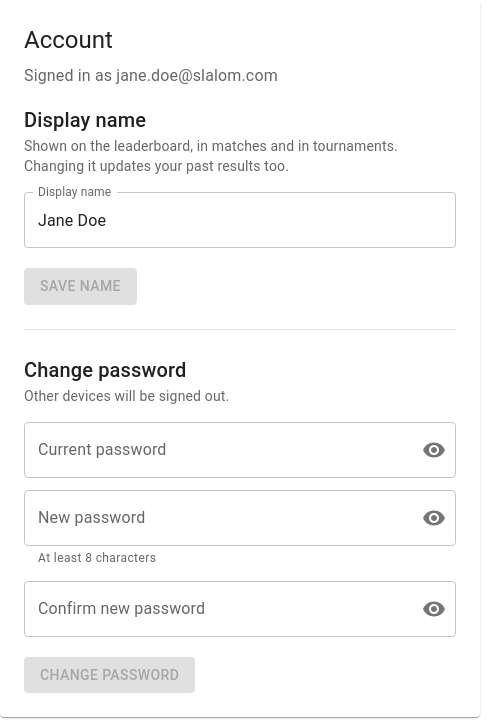
Test: AccountPage display name › starts from the current name and only enables Save for a valid, changed name
Expected: the button "Save name" is disabled, [24,268,137,305]
Replace the text in the field labelled "Display name" with "J": x=240, y=220 [24,192,456,248]
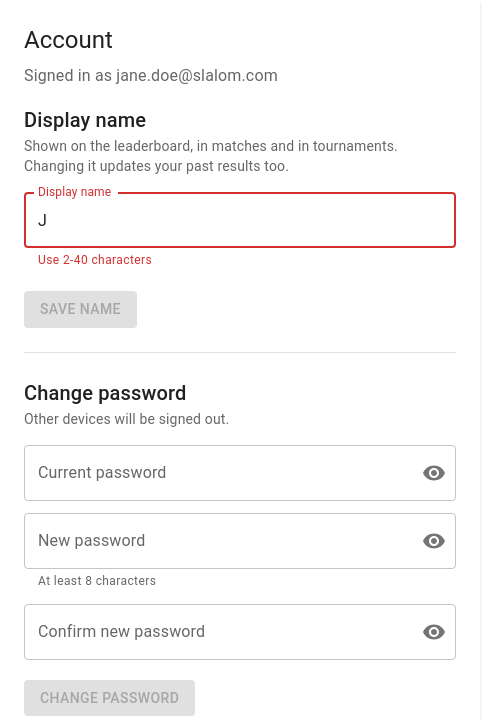
Expected: the button "Save name" is disabled, [24,291,137,328]
Expected: the text "Use 2-40 characters" is shown, [38,253,152,267]
In the field labelled "Display name": x=240, y=220 [24,192,456,248], type "ane"
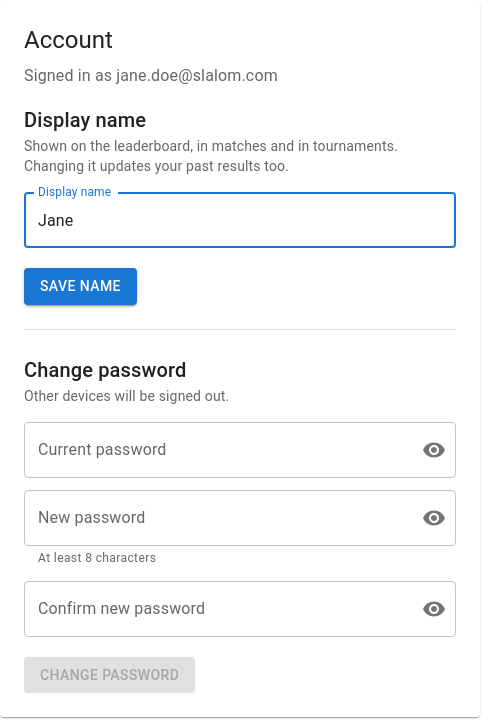
Expected: the button "Save name" is enabled, [24,268,137,305]
